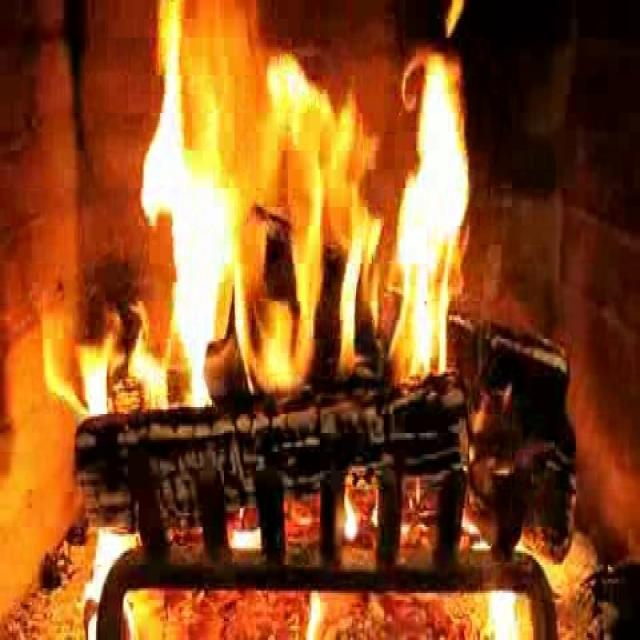fire: (139, 1, 489, 480)
